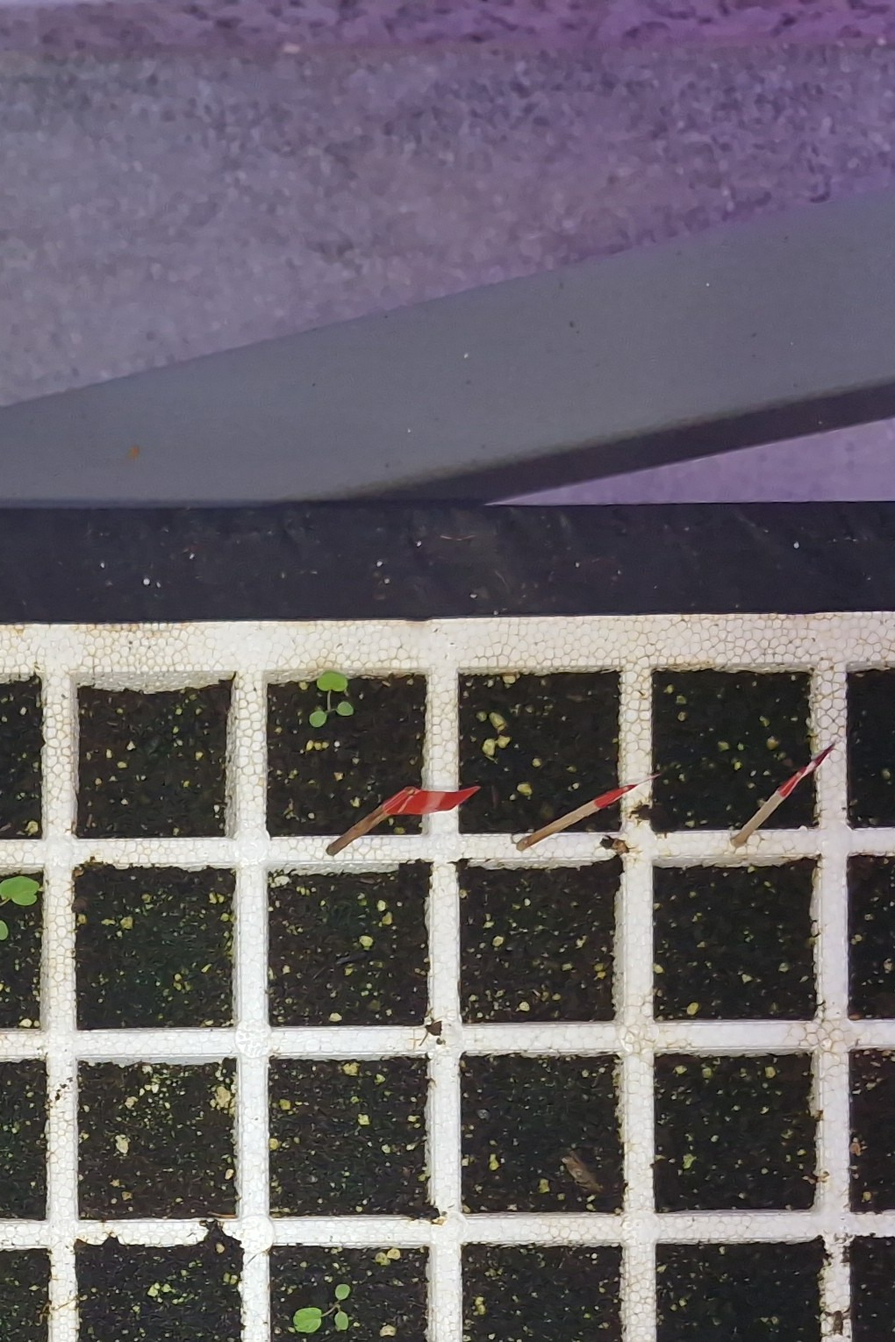Folha: (0, 876, 40, 905), (293, 1308, 321, 1332), (317, 672, 348, 691), (309, 711, 327, 727), (336, 701, 354, 716), (335, 1284, 351, 1300), (335, 1312, 349, 1329)
Germinacao: (293, 1284, 350, 1333), (309, 671, 354, 728), (0, 876, 40, 940)
